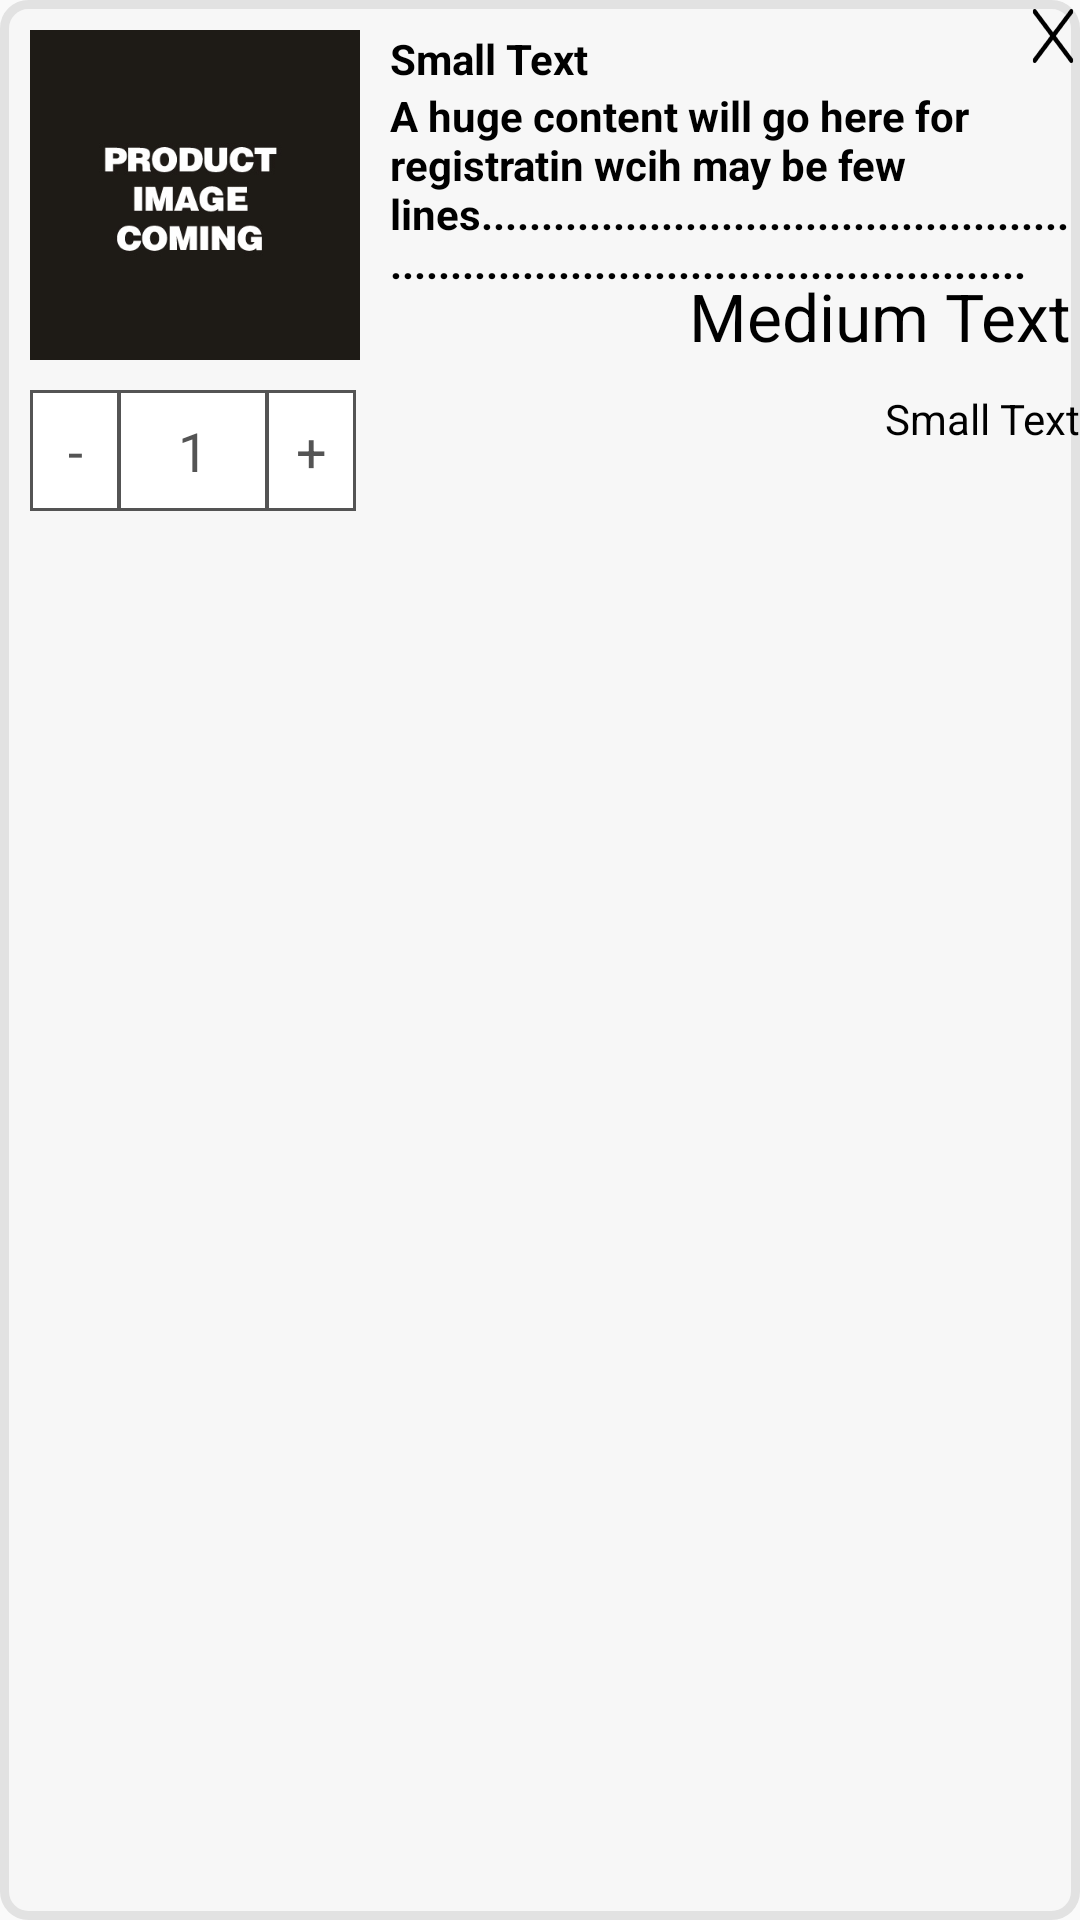

Icons on this 1080×1920 Android screen, each with its box as (x1, y1, x2, y2):
cancel: (1033, 9, 1074, 63)
